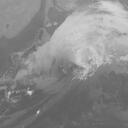cyclone: (36, 31, 89, 83)
